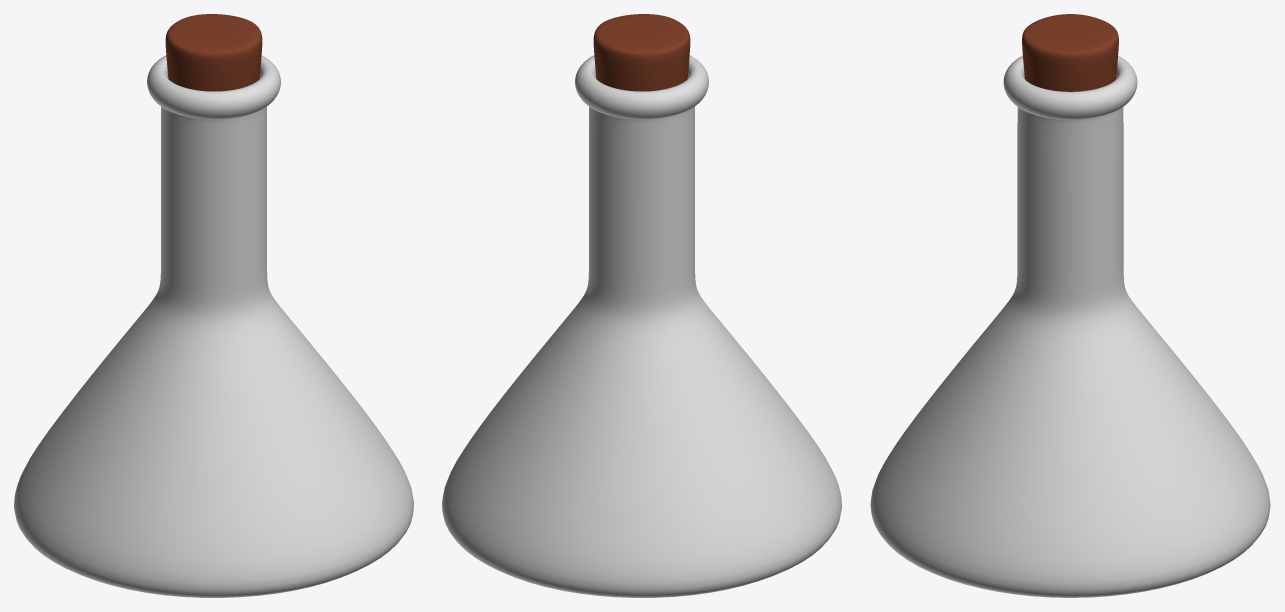
Rendered from lab.fbx.
3 renders of one model, left to right at view 1: azimuth 30°, elevation 25°; view 2: azimuth 150°, elevation 25°; view 3: azimuth 270°, elevation 25°, orthographic.
Visible parts, largest first — view 1: Chemestry-tube; view 2: Chemestry-tube; view 3: Chemestry-tube.
Part boxes in pixels (bbox=[...]): Chemestry-tube: bbox=[14, 14, 413, 597]; Chemestry-tube: bbox=[442, 14, 841, 597]; Chemestry-tube: bbox=[870, 14, 1270, 597].
Bounding box in the file's own units: 141 × 192 × 141.
